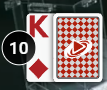k: (26, 13, 51, 40)
